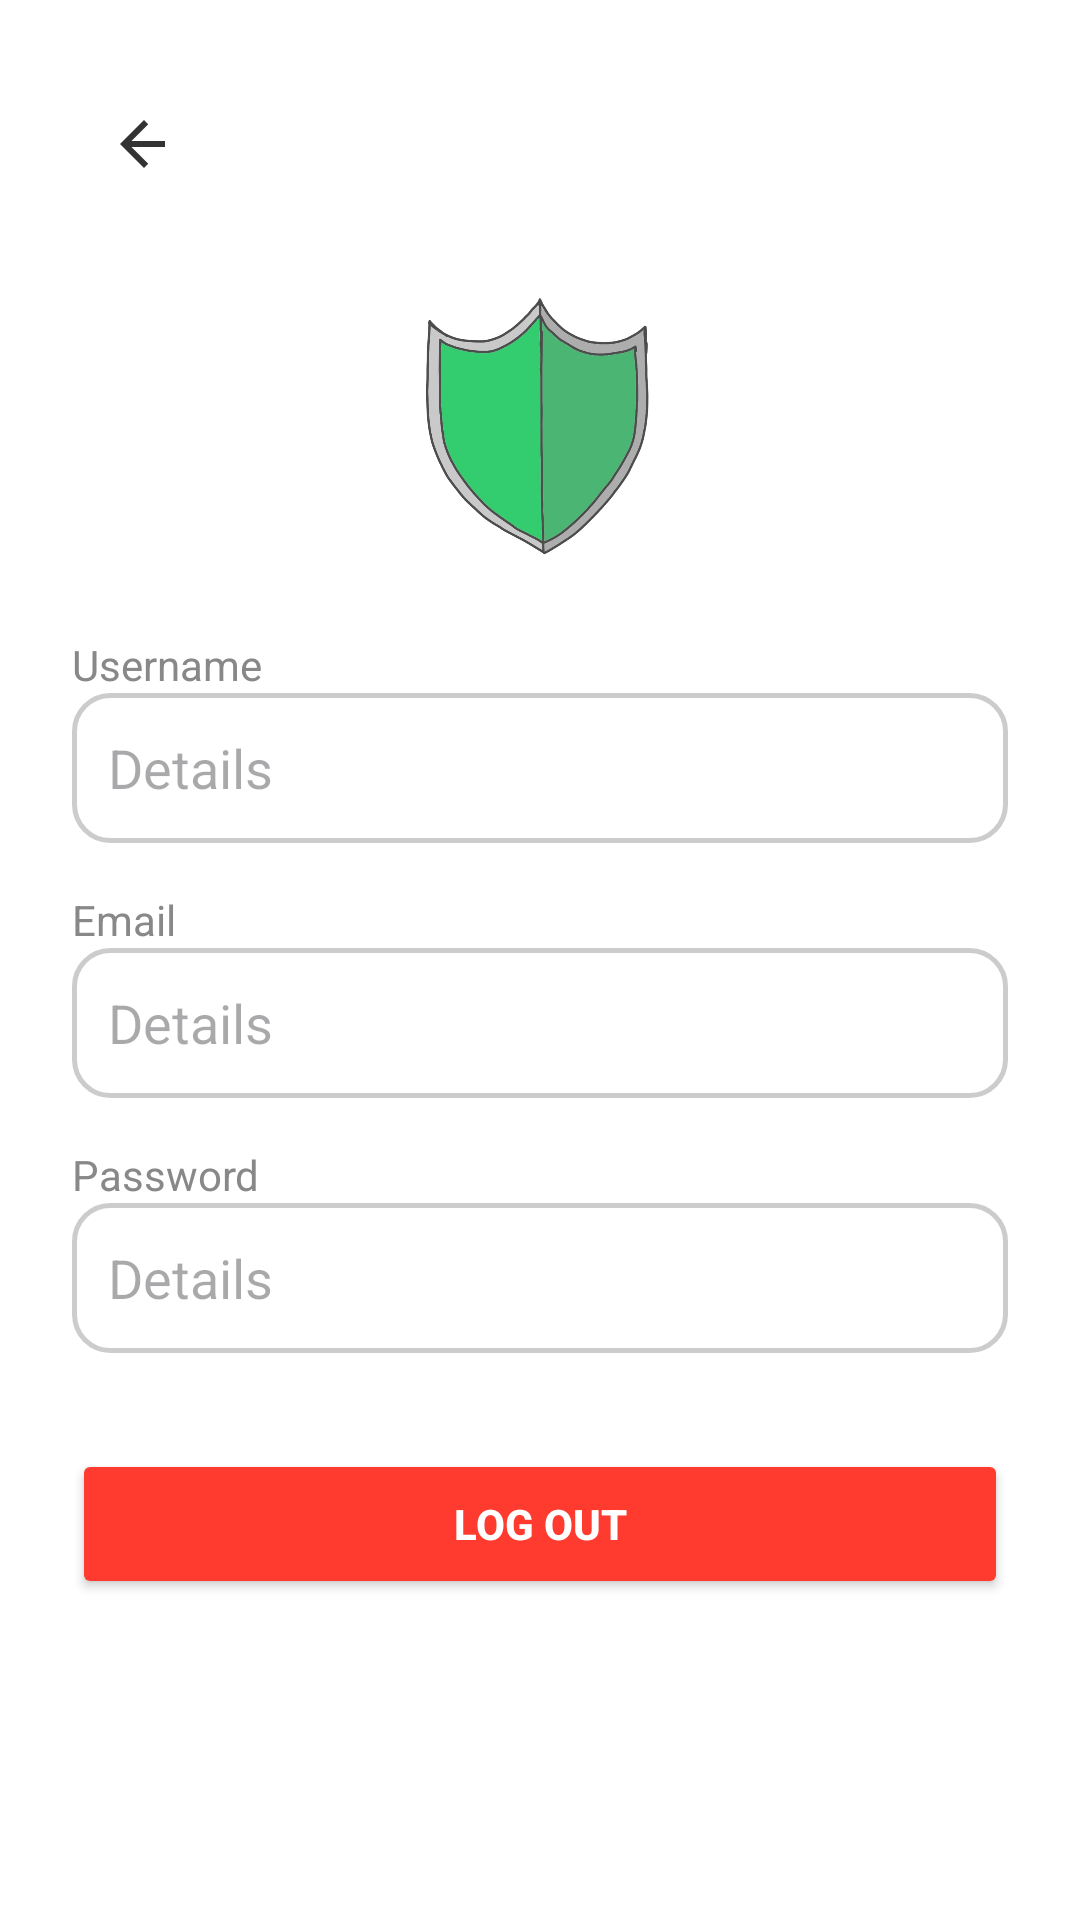

Icons on this 1080x1920 Android screen, each with the point to tap as point (x, y):
Back: point (142, 144)
